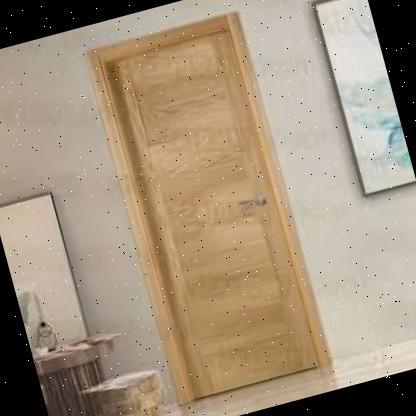door: (78, 0, 342, 414)
